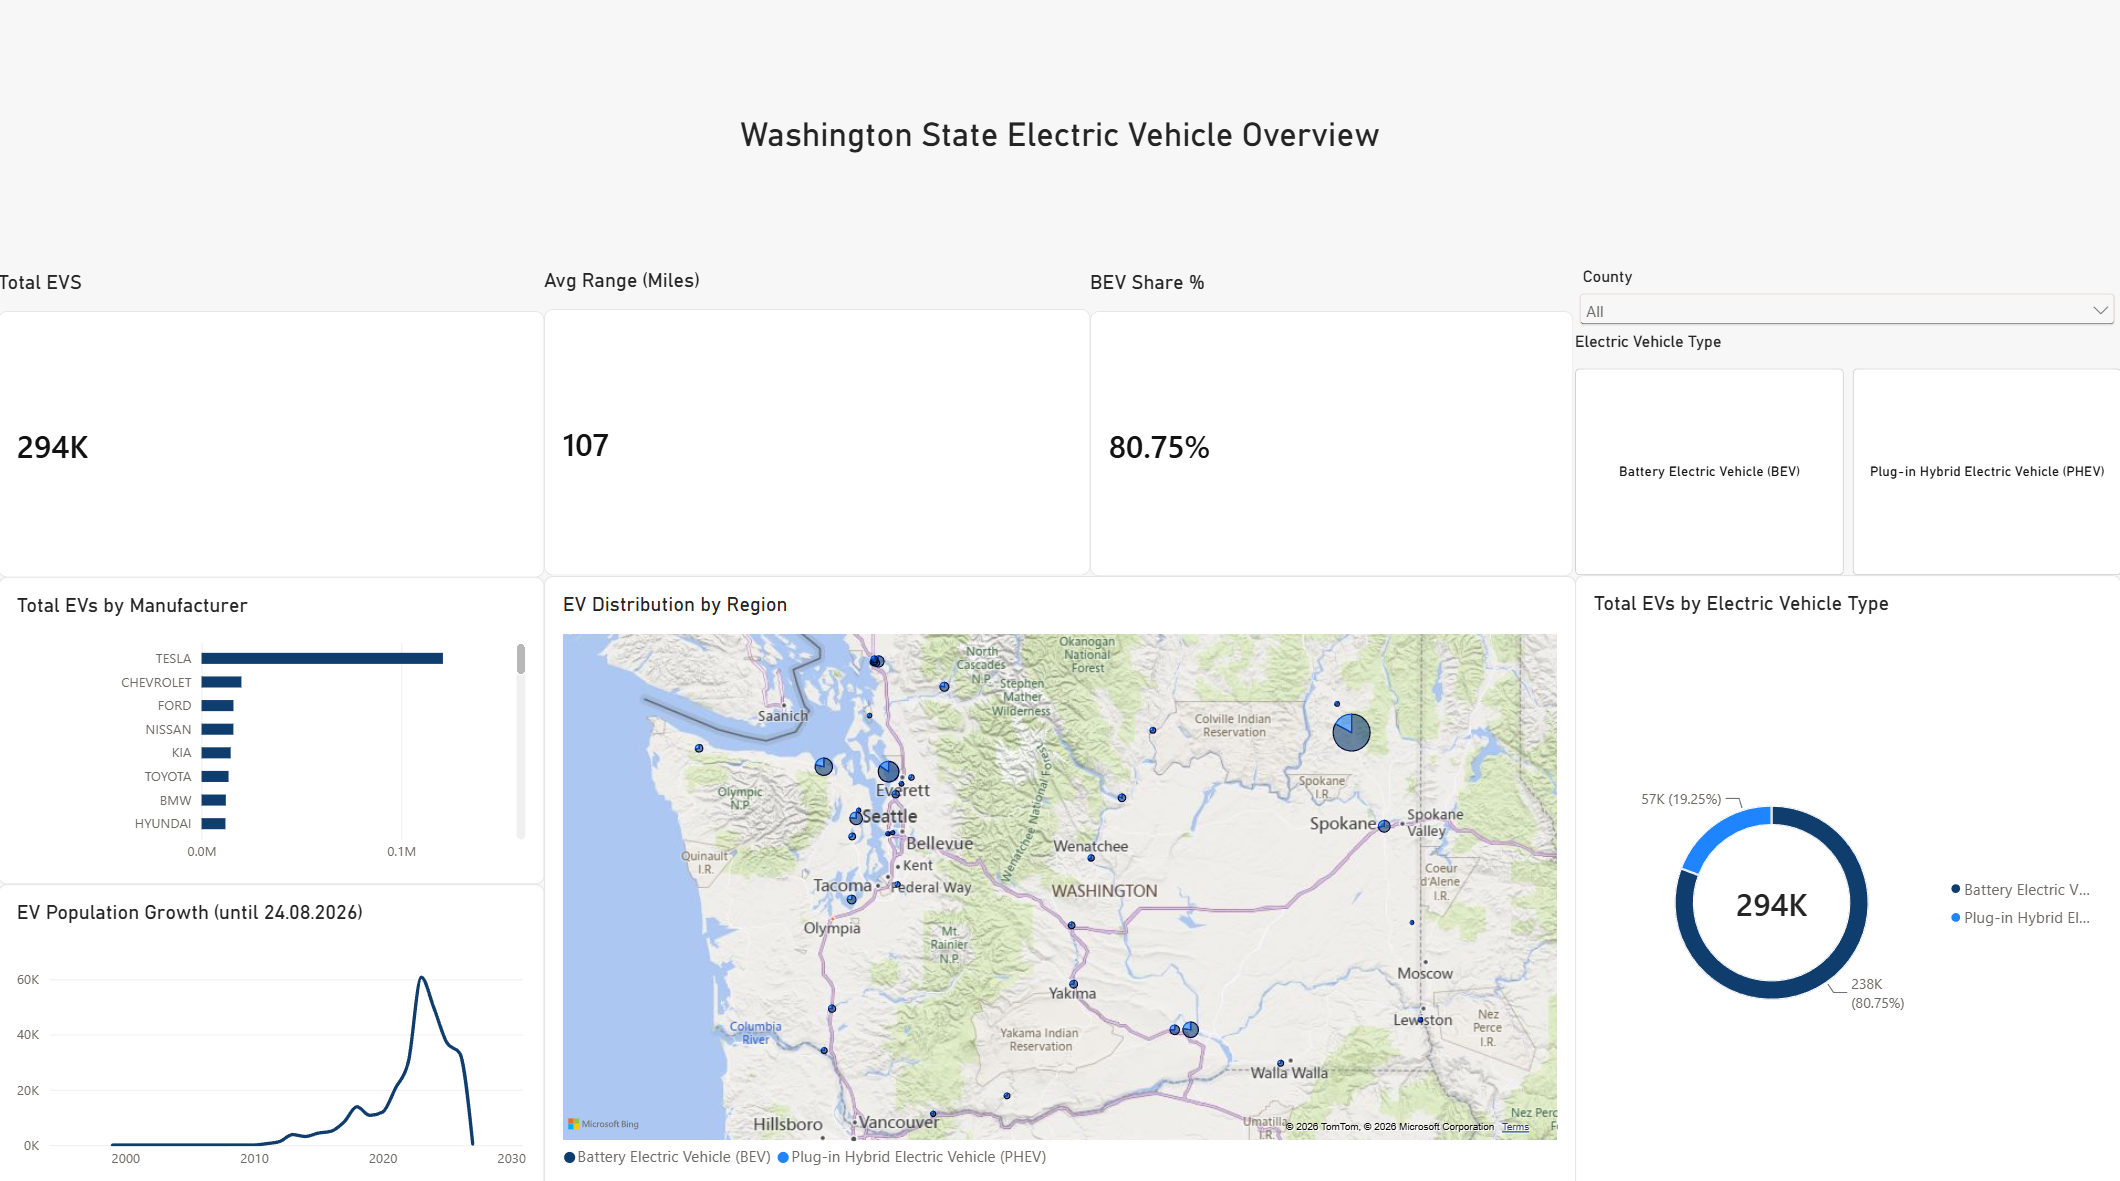

What the dashboard file says about the page in this screenshot:
{"tool":"powerbi","page":{"name":"Page 1","canvas":[1920,1080],"ordinal":0},"visuals":[{"type":"clusteredBarChart","title":"Total EVs by Manufacturer","fields":{"Category":["electric_vehicle_population_data_state_of_washington.Make"],"Y":["_Measures (2).Total EVs"]},"box":[0,524.2,493.7,278.2],"z":0},{"type":"cardVisual","title":"Total EVS","fields":{"Data":["_Measures (2).Total EVs"]},"box":[0,246.4,494,278],"z":1},{"type":"lineChart","title":"EV Population Growth (until 24.08.2026)","fields":{"Category":["electric_vehicle_population_data_state_of_washington.Model Year"],"Y":["_Measures (2).Total EVs"]},"box":[0,802,494,278],"z":2},{"type":"slicer","fields":{"Values":["electric_vehicle_population_data_state_of_washington.County"]},"box":[1424.3,245.4,494.5,54.2],"z":3},{"type":"cardVisual","title":"Avg Range (Miles)","fields":{"Data":["_Measures (2).Avg Electric Range"]},"box":[493.7,245.4,494,278],"z":4},{"type":"cardVisual","title":"BEV Share %","fields":{"Data":["_Measures (2).BEV Share %"]},"box":[987.5,246.4,437.8,277.8],"z":5},{"type":"map","title":"EV Distribution by Region","fields":{"Category":["electric_vehicle_population_data_state_of_washington.Full Location"],"Series":["electric_vehicle_population_data_state_of_washington.Electric Vehicle Type"],"Size":["_Measures (2).Total EVs"]},"box":[493.7,523.2,932.5,556.6],"z":6},{"type":"donutChart","fields":{"Category":["electric_vehicle_population_data_state_of_washington.Electric Vehicle Type"],"Y":["_Measures (2).Total EVs"]},"box":[1425.3,522.2,494.4,557.4],"z":7},{"type":"advancedSlicerVisual","fields":{"Values":["electric_vehicle_population_data_state_of_washington.Electric Vehicle Type"]},"box":[1425.3,303.3,494,219],"z":8},{"type":"textbox","title":"Washington State Electric Vehicle Overview","box":[0,106.4,1920,45.9],"z":9}]}

Visuals, with their boxes in screenshot pixels (x1, y1, x2, y2), scaled from the page's 1920x1080 canvas onto the 2120x1181 screenshot:
"Total EVs by Manufacturer" clusteredBarChart: [0, 573, 545, 877]
"Total EVS" cardVisual: [0, 269, 545, 573]
"EV Population Growth (until 24.08.2026)" lineChart: [0, 877, 545, 1180]
slicer - electric_vehicle_population_data_state_of_washington.County: [1573, 268, 2119, 328]
"Avg Range (Miles)" cardVisual: [545, 268, 1091, 572]
"BEV Share %" cardVisual: [1090, 269, 1574, 573]
"EV Distribution by Region" map: [545, 572, 1575, 1180]
donutChart - electric_vehicle_population_data_state_of_washington.Electric Vehicle Type x _Measures (2).Total EVs: [1574, 571, 2119, 1180]
advancedSlicerVisual - electric_vehicle_population_data_state_of_washington.Electric Vehicle Type: [1574, 332, 2119, 571]
"Washington State Electric Vehicle Overview" textbox: [0, 116, 2119, 167]
